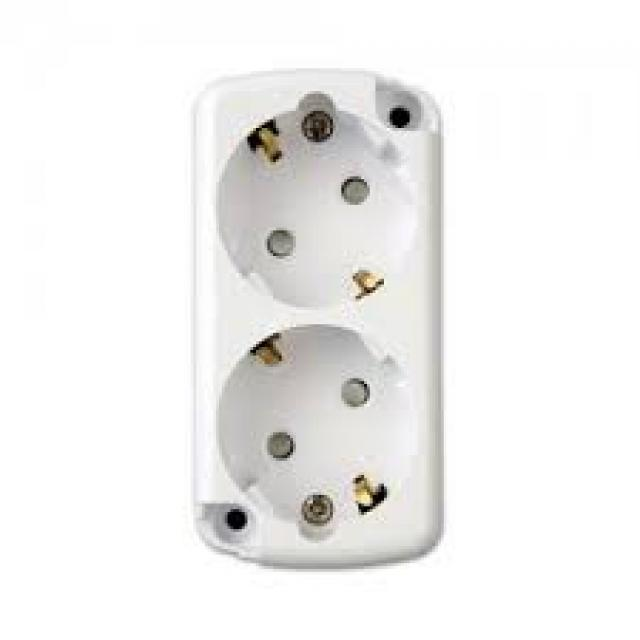typeb: (180, 59, 458, 583)
